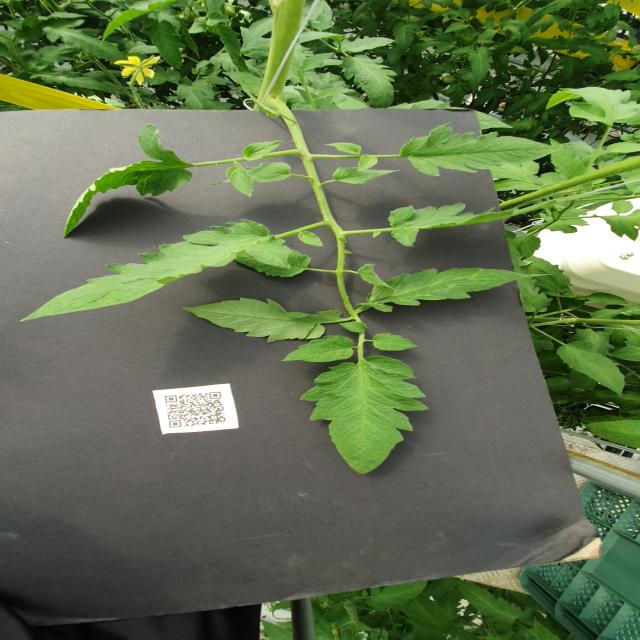Healthy Leaf: (20, 219, 291, 322), (300, 356, 429, 475), (63, 123, 188, 238), (357, 266, 553, 313), (399, 122, 563, 177), (388, 199, 555, 247), (184, 297, 344, 343), (556, 341, 626, 397), (544, 86, 640, 124), (342, 55, 397, 110), (140, 18, 183, 70), (282, 335, 355, 362), (580, 419, 640, 448), (548, 136, 587, 178), (333, 166, 400, 184), (175, 84, 218, 110), (468, 47, 494, 84), (227, 162, 254, 197), (392, 22, 421, 54), (242, 140, 285, 161), (359, 263, 393, 289), (341, 37, 395, 53), (373, 333, 419, 351), (302, 52, 336, 70), (588, 292, 629, 306), (598, 69, 640, 82), (612, 345, 640, 362), (325, 142, 362, 154), (606, 141, 640, 153), (357, 154, 379, 171), (338, 321, 368, 333), (444, 22, 470, 34), (611, 200, 633, 213), (200, 76, 228, 86)
